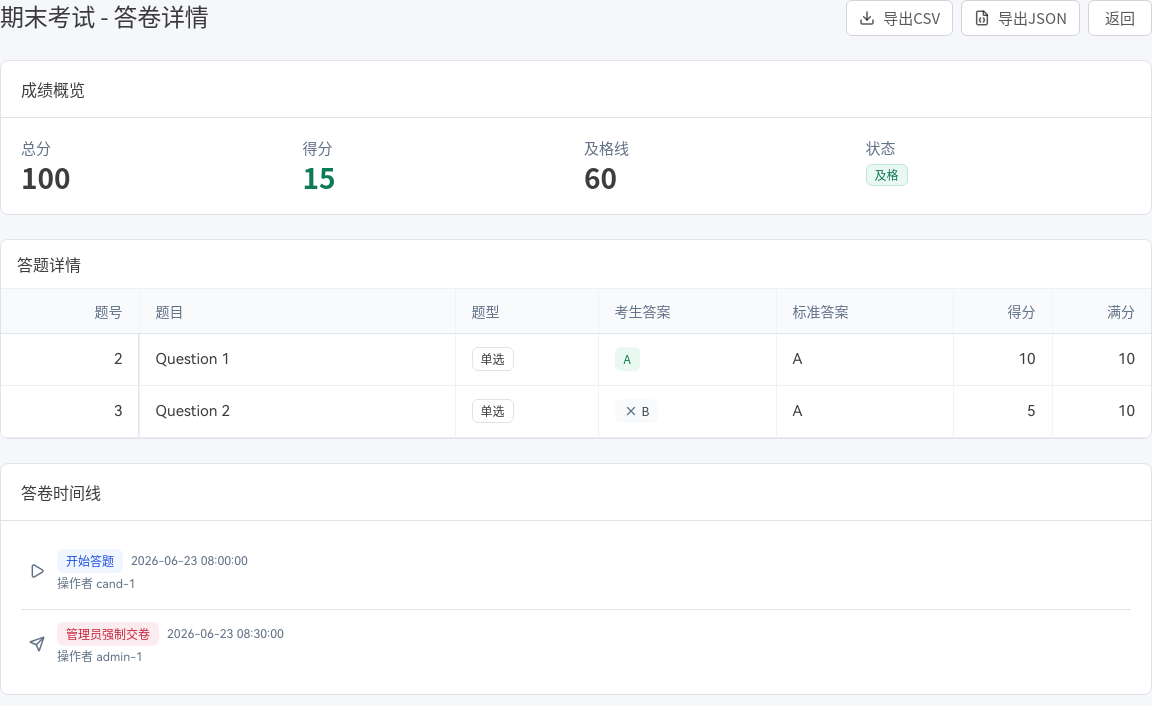
AttemptDetailPage › expands event metadata when an event row is clicked
expect the heading "答卷时间线" is shown: met, box top-left (21, 480), bottom-right (101, 504)
Step 1. Click the text "开始答题" → (90, 560), box top-left (57, 548), bottom-right (123, 572)
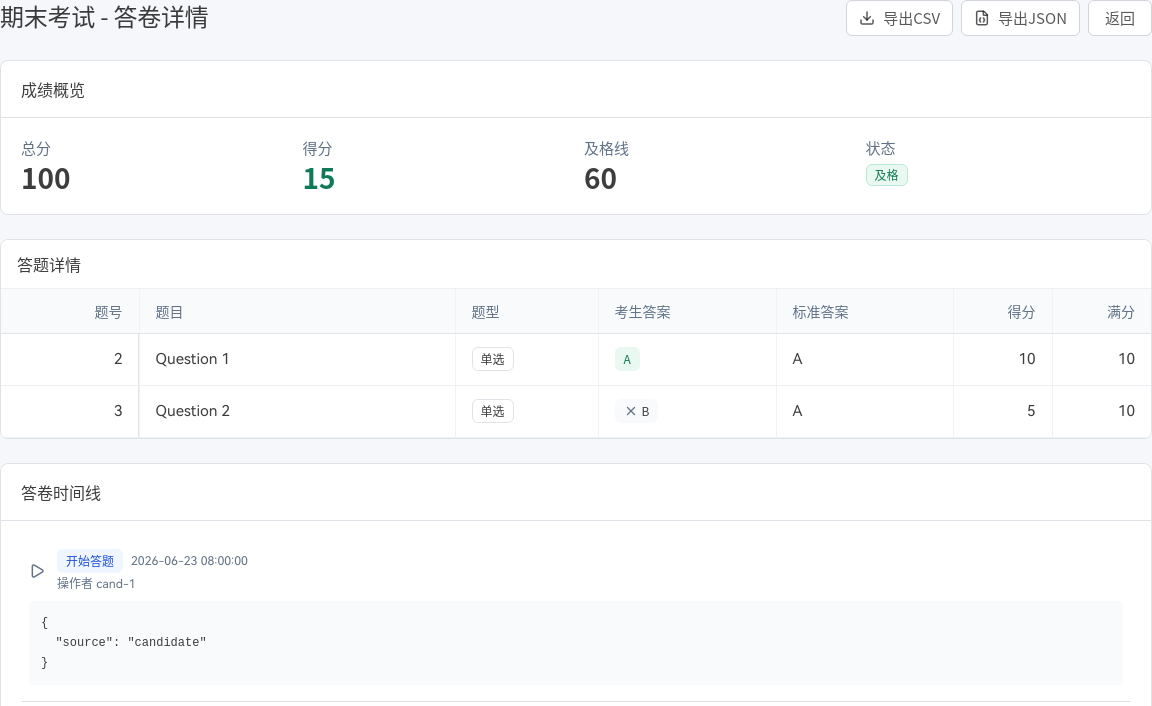
expect the text "{ \"source\": \"candidate\" }" is shown: met, box top-left (29, 600), bottom-right (1123, 684)
